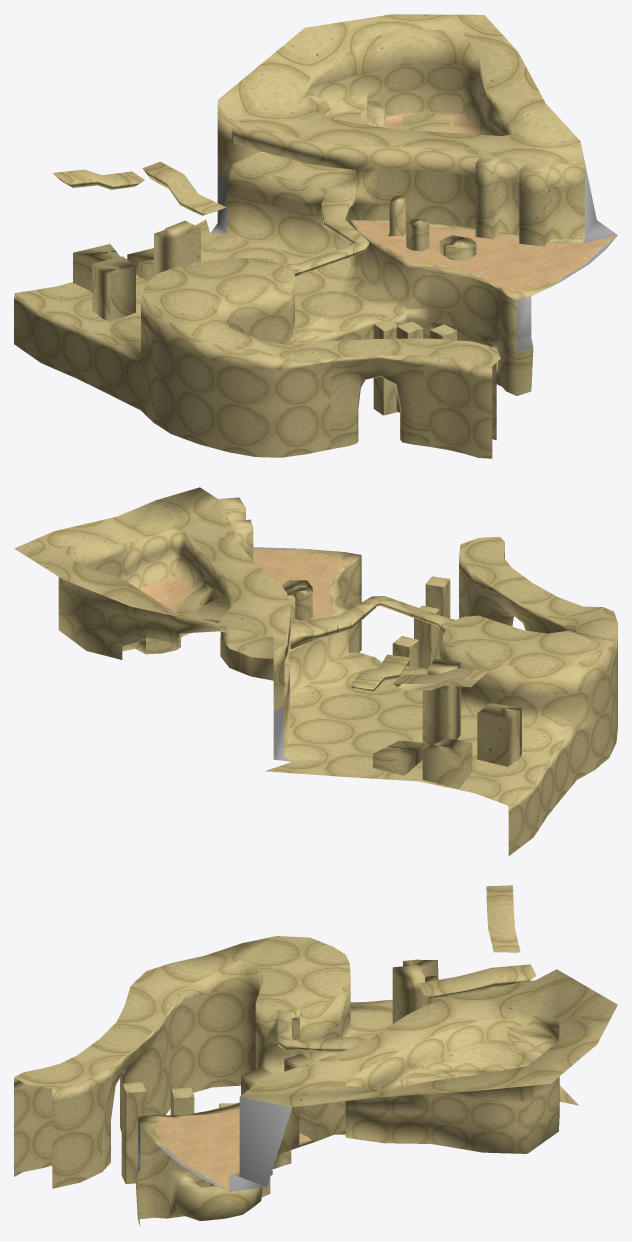
The model's file is metal ocean mesh.fbx.
The picture shows the model from 3 angles, top to bottom: view 1: azimuth 30°, elevation 25°; view 2: azimuth 150°, elevation 25°; view 3: azimuth 270°, elevation 25°; orthographic projection. The views are drawn at different scales.
Parts seen in each view (by area): view 1: PolyShape_62_5, PolyShape_44_1, PolyShape_49_2, PolyShape_49_1, pCube46, PolyShape_45_2, PolyShape_45_1; view 2: PolyShape_62_5, PolyShape_44_1, PolyShape_49_1, PolyShape_49_2, pCube60, pCube61, pCube46, PolyShape_45_1; view 3: PolyShape_62_5, PolyShape_49_2, PolyShape_44_1, pCube61, PolyShape_49_1, pCube60.
Boxes of the visible parts, x1,y1,x2,y2 form: PolyShape_62_5: [14, 14, 617, 458]; PolyShape_44_1: [73, 220, 200, 321]; PolyShape_49_2: [142, 161, 226, 215]; PolyShape_49_1: [53, 169, 144, 189]; pCube46: [373, 319, 397, 415]; PolyShape_45_2: [439, 235, 476, 260]; PolyShape_45_1: [406, 218, 429, 251]; PolyShape_62_5: [14, 487, 617, 855]; PolyShape_44_1: [373, 659, 521, 788]; PolyShape_49_1: [392, 668, 488, 690]; PolyShape_49_2: [349, 654, 409, 691]; pCube60: [414, 605, 439, 669]; pCube61: [425, 576, 450, 659]; pCube46: [392, 636, 418, 667]; PolyShape_45_1: [293, 587, 312, 620]; PolyShape_62_5: [14, 936, 617, 1226]; PolyShape_49_2: [419, 964, 536, 999]; PolyShape_44_1: [392, 959, 489, 1023]; pCube61: [121, 1082, 146, 1183]; PolyShape_49_1: [486, 885, 520, 952]; pCube60: [170, 1088, 194, 1115].
Size of the model in its own units: 0.969 by 0.4378 by 0.9691.
